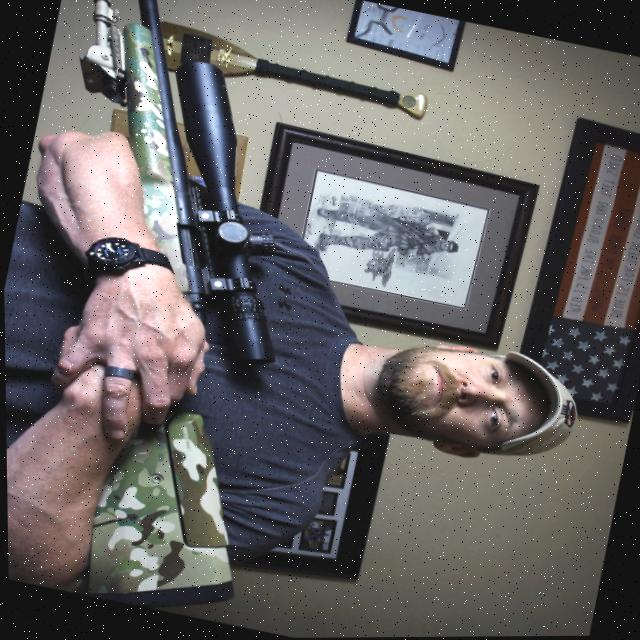firearm: (0, 0, 359, 626)
